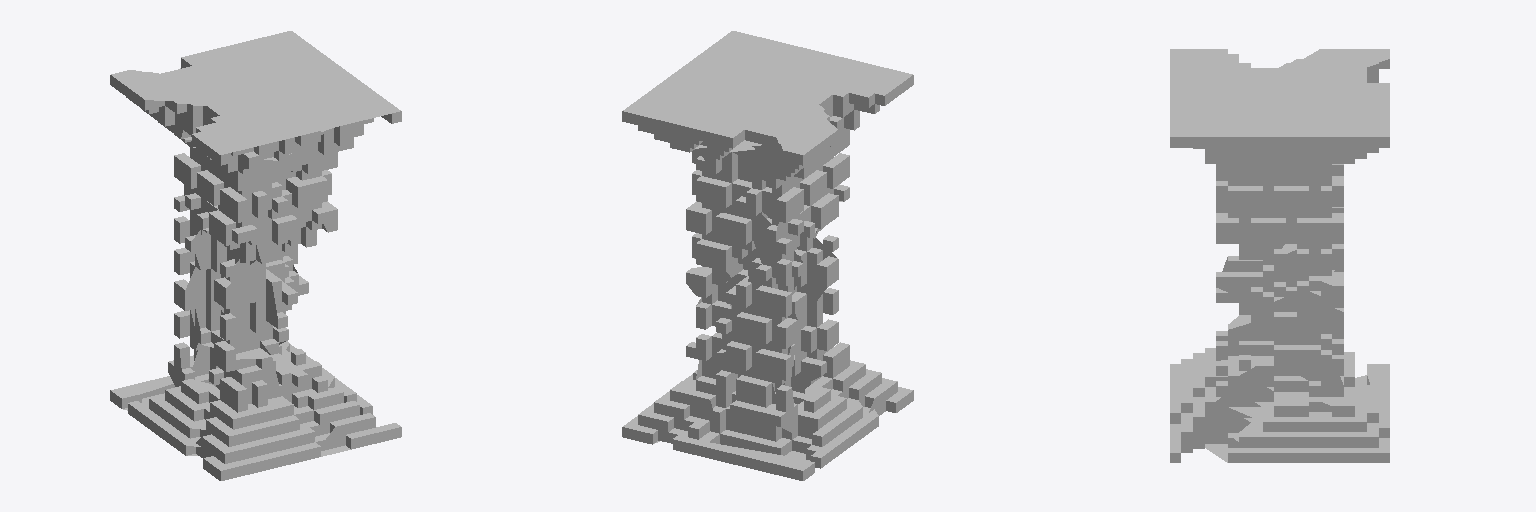
Rendered from Pillar_Int_Bricks_Broken.obj.
3 renders of one model, left to right at view 1: azimuth 30°, elevation 25°; view 2: azimuth 150°, elevation 25°; view 3: azimuth 270°, elevation 25°, orthographic.
Parts seen in each view (by area): view 1: Pillar_Int_Bricks_Broken_Pillar_Int_Bricks_Broken.001; view 2: Pillar_Int_Bricks_Broken_Pillar_Int_Bricks_Broken.001; view 3: Pillar_Int_Bricks_Broken_Pillar_Int_Bricks_Broken.001.
Boxes of the visible parts, box(x1,y1,x2,y2) form: Pillar_Int_Bricks_Broken_Pillar_Int_Bricks_Broken.001: box(110, 31, 401, 480); Pillar_Int_Bricks_Broken_Pillar_Int_Bricks_Broken.001: box(622, 31, 913, 480); Pillar_Int_Bricks_Broken_Pillar_Int_Bricks_Broken.001: box(1170, 49, 1389, 462).
Bounding box in the file's own units: 1.8 × 3.1 × 1.9.